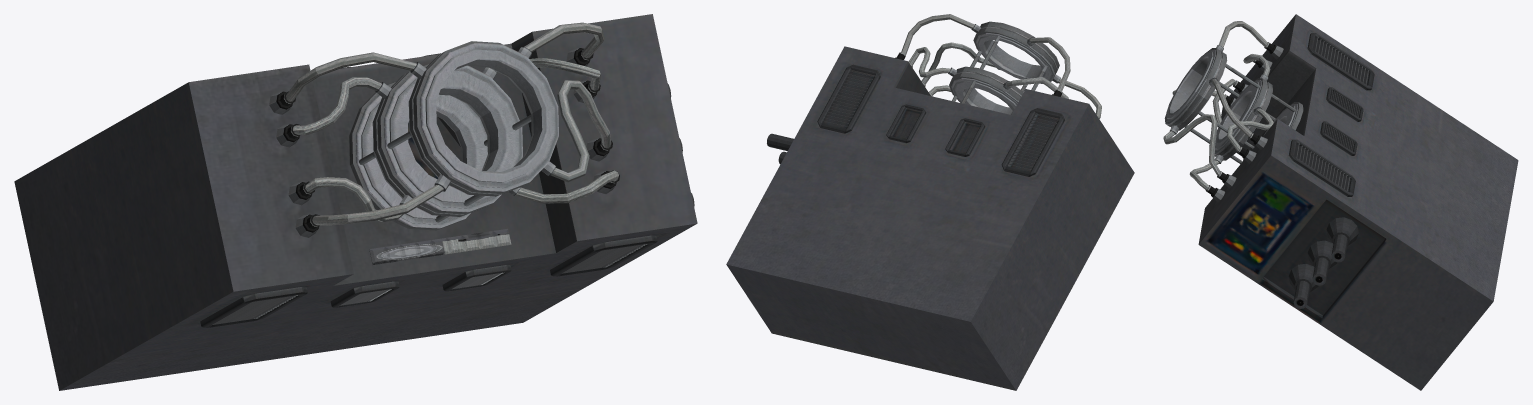
Rendered from zpmslot.obj.
The picture shows the model from 3 angles, left to right: view 1: azimuth 30°, elevation 25°; view 2: azimuth 150°, elevation 25°; view 3: azimuth 270°, elevation 25°; orthographic projection. The views are drawn at different scales.
Parts seen in each view (by area): view 1: zpm_slot_ref; view 2: zpm_slot_ref; view 3: zpm_slot_ref.
Part boxes in pixels (bbox=[...]): zpm_slot_ref: bbox=[14, 14, 697, 390]; zpm_slot_ref: bbox=[726, 14, 1134, 390]; zpm_slot_ref: bbox=[1163, 14, 1518, 390].
Size of the model in its own units: 1.54 by 1.29 by 1.52.
